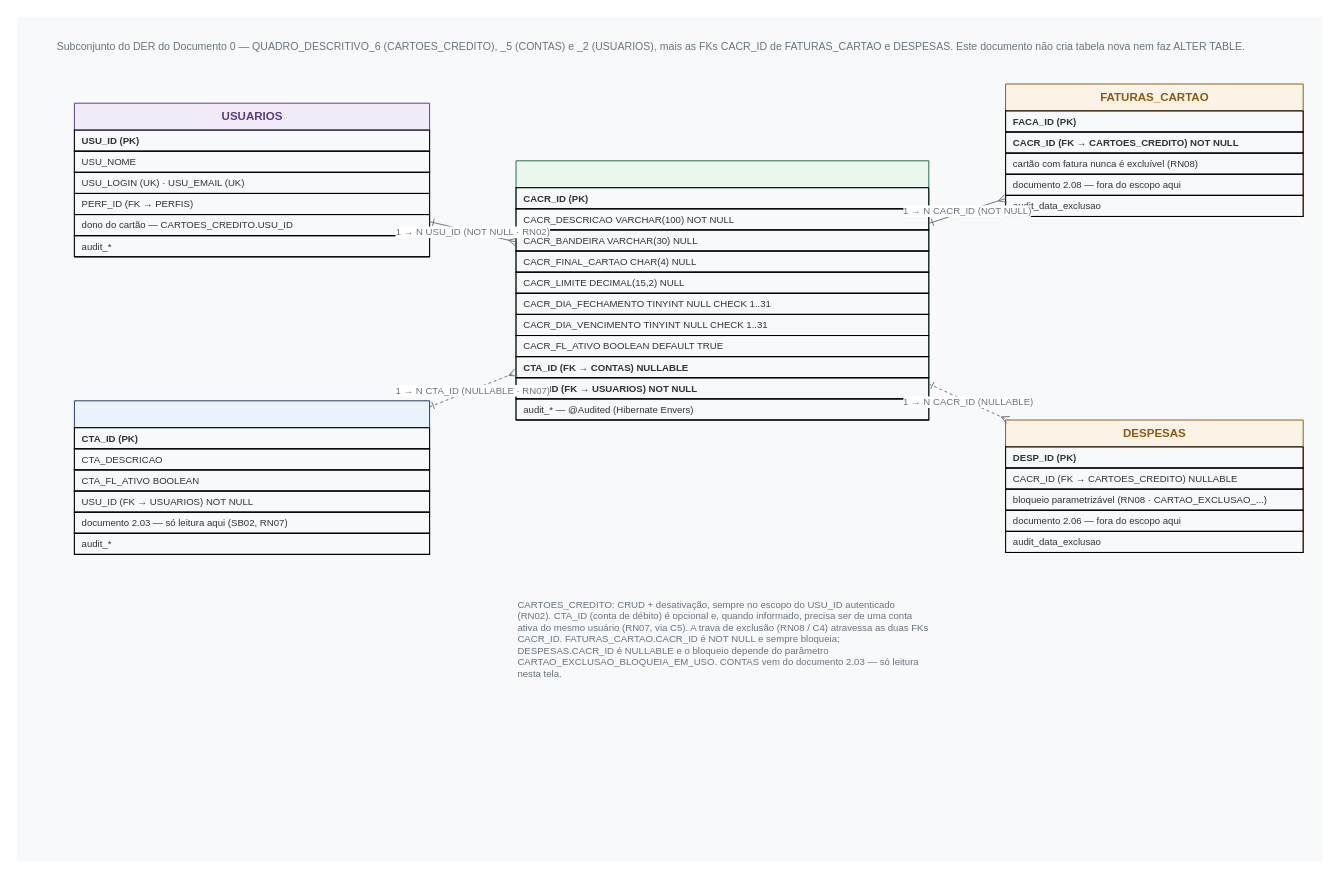
This 1338x877 diagram has some shape labels left out. Each missing label, with the box of its shape:
CARTOES_CREDITO: (515, 160, 929, 420)
CONTAS: (73, 400, 430, 554)
